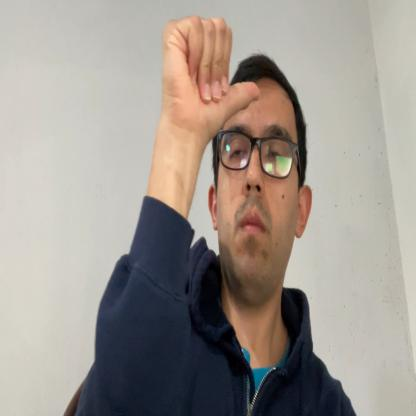A: (161, 15, 259, 134)
